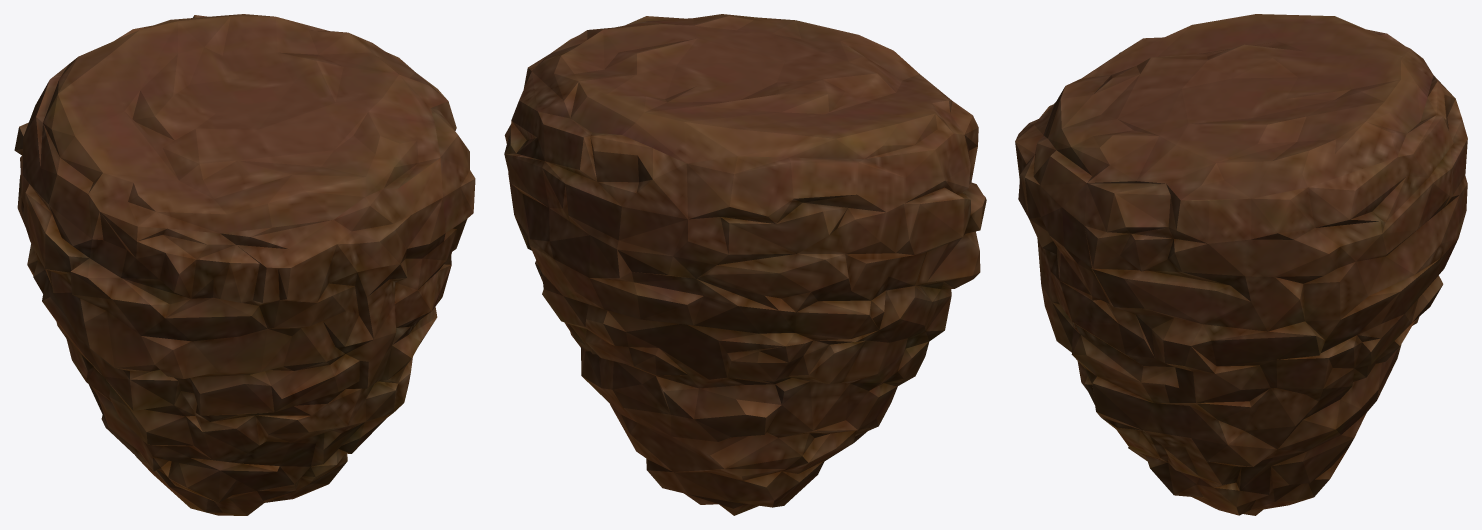
The model's file is smallPlatform.glb.
3 renders of one model, left to right at view 1: azimuth 30°, elevation 25°; view 2: azimuth 150°, elevation 25°; view 3: azimuth 270°, elevation 25°, orthographic. The views are drawn at different scales.
Parts seen in each view (by area): view 1: Rock_lowPoly:Group7947; view 2: Rock_lowPoly:Group7947; view 3: Rock_lowPoly:Group7947.
Boxes of the visible parts, x1,y1,x2,y2 form: Rock_lowPoly:Group7947: (14, 14, 475, 515); Rock_lowPoly:Group7947: (504, 14, 986, 515); Rock_lowPoly:Group7947: (1015, 14, 1467, 515).
Bounding box in the file's own units: 1.9 × 2 × 1.85.
Materials: 1 (1 with a texture image).
